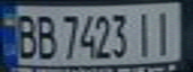2: (93, 10, 112, 60)
3: (109, 10, 133, 60)
4: (78, 11, 96, 60)
7: (57, 10, 81, 61)
B: (9, 10, 39, 61), (30, 10, 57, 61)
I: (148, 7, 181, 57), (130, 8, 157, 59)
